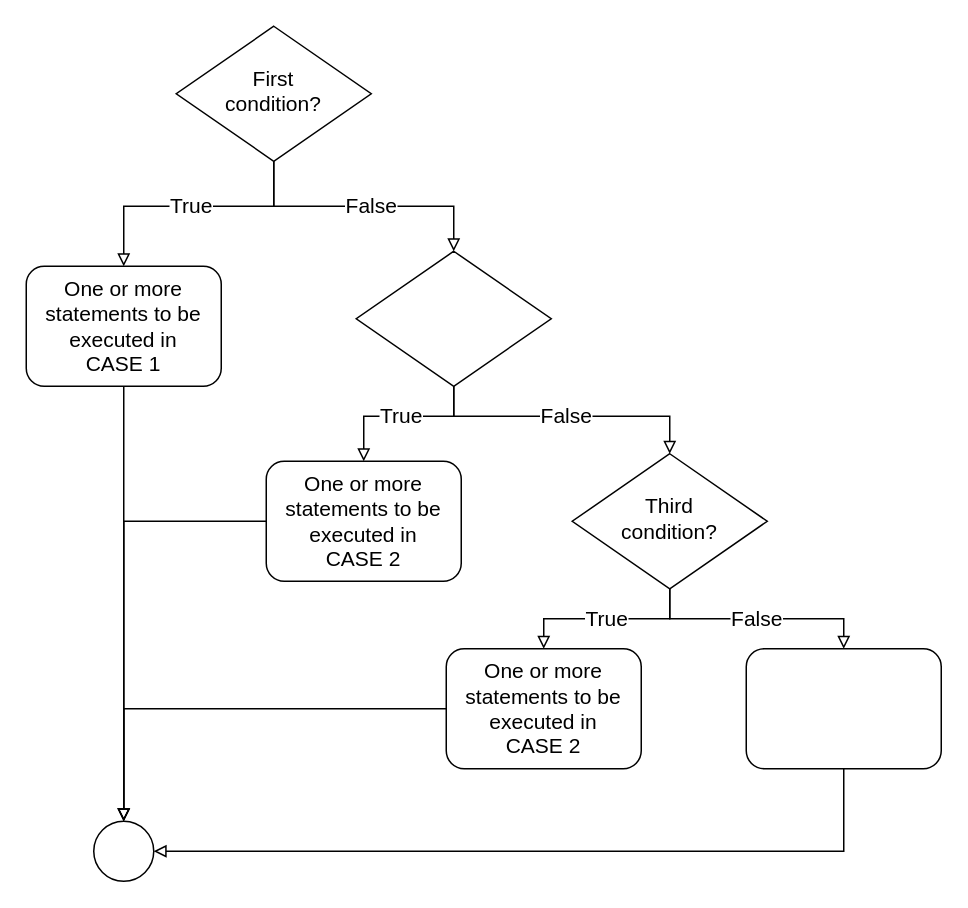
This 968x908 diagram has some shape labels left out. The shapes that lost their labels are listed below. From the top down, each one's centre as x and y in pixels, then its label:
At point 453,318: "Second condition?".
At point 843,708: "One or more statements to be executed OTHERWISE".
